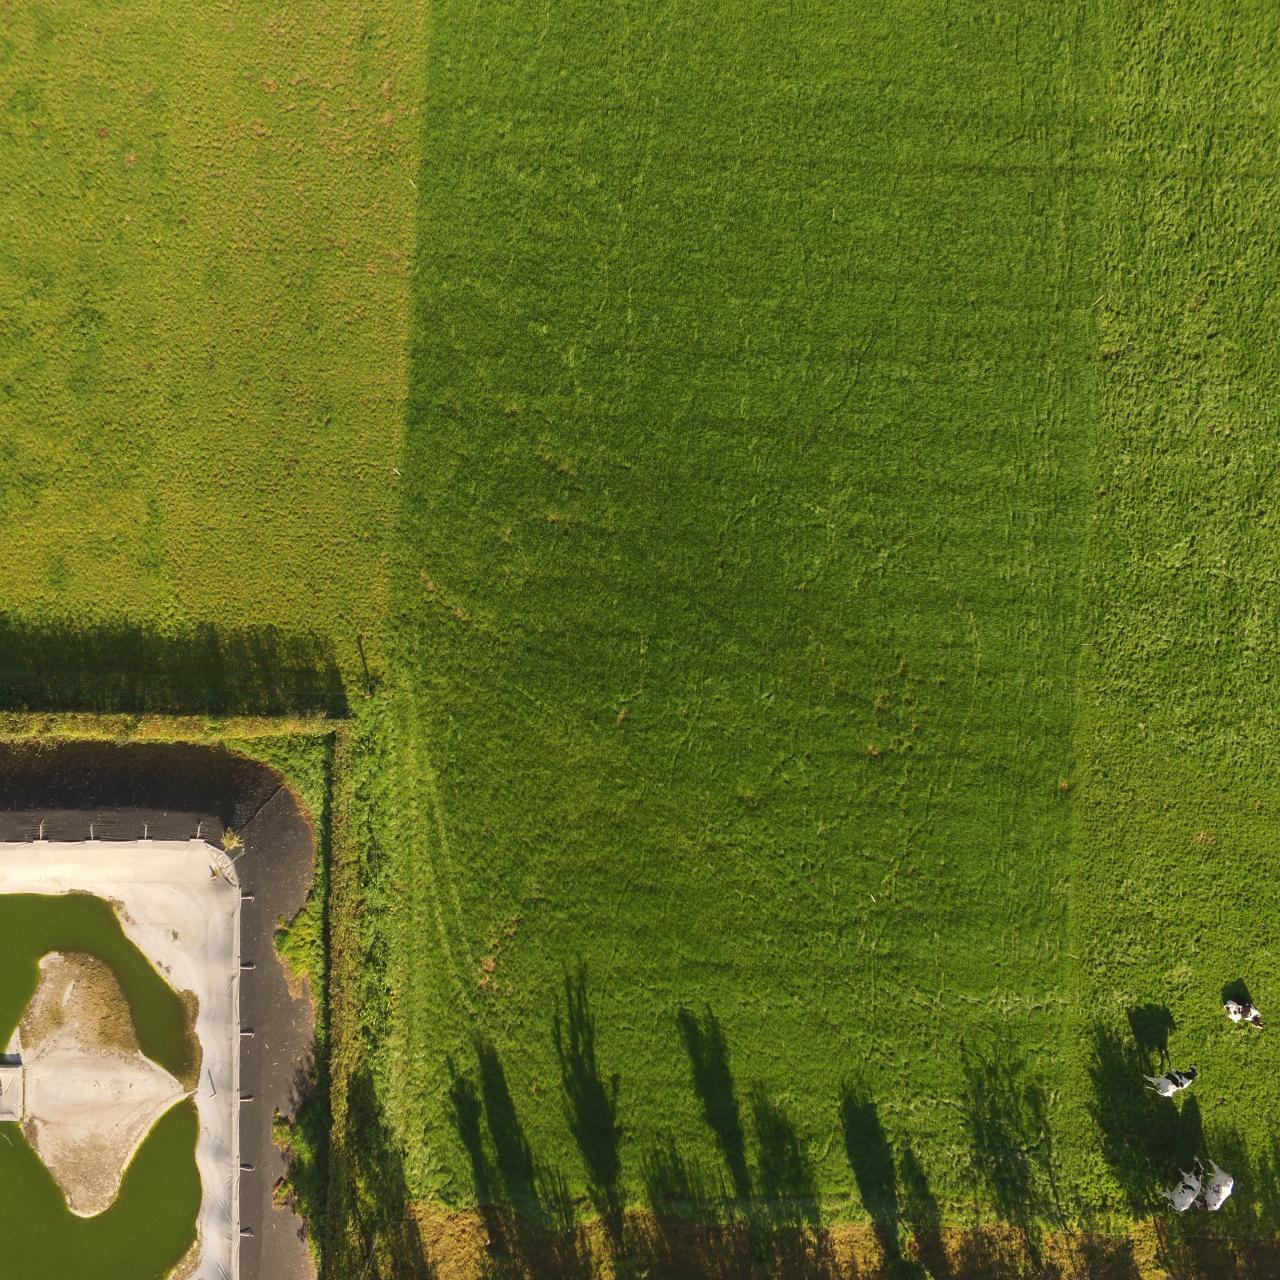cow: (1157, 1156, 1208, 1218), (1220, 993, 1269, 1041), (1204, 1162, 1245, 1219), (1136, 1065, 1205, 1096)
